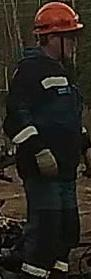gloves: (31, 141, 59, 179)
helmet: (31, 1, 84, 38)
vest: (7, 53, 87, 181)
